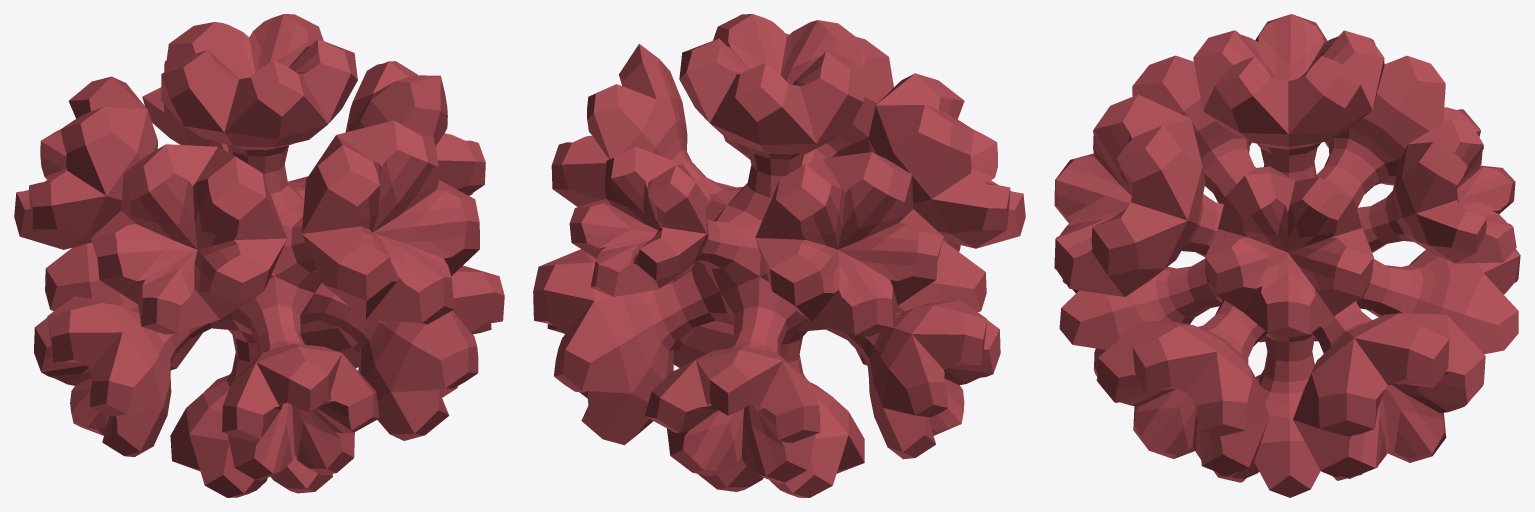
The model's file is deformedBall4.glb.
The picture shows the model from 3 angles, left to right: view 1: azimuth 30°, elevation 25°; view 2: azimuth 150°, elevation 25°; view 3: azimuth 270°, elevation 25°; orthographic projection.
Visible parts, largest first — view 1: Icosphere.006; view 2: Icosphere.006; view 3: Icosphere.006.
Part boxes in pixels (left/top/right/bottom): Icosphere.006: left=14, top=14, right=504, bottom=497; Icosphere.006: left=533, top=14, right=1025, bottom=497; Icosphere.006: left=1054, top=14, right=1520, bottom=497.
Bounding box in the file's own units: 21.32 × 21.68 × 20.82.
